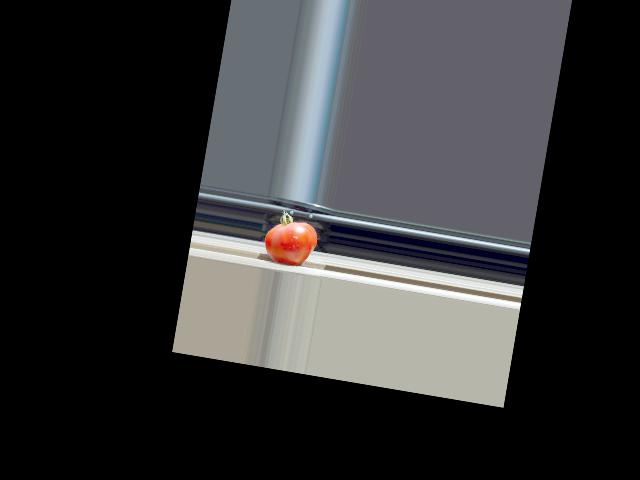tomato: (261, 207, 320, 267)
